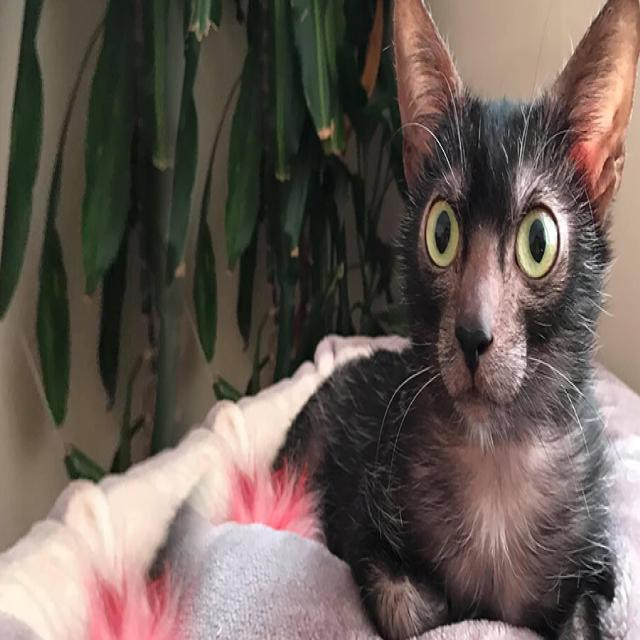Lykoi: (265, 0, 640, 640)
